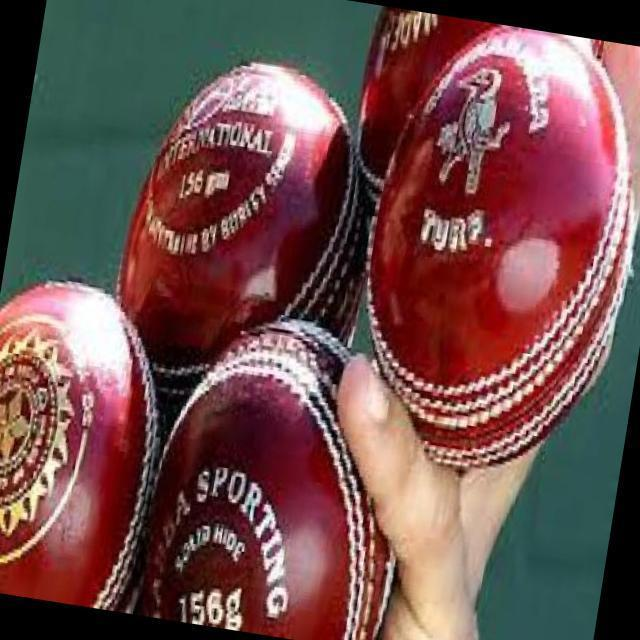-: (130, 329, 488, 640), (342, 39, 640, 371), (110, 72, 391, 361)
